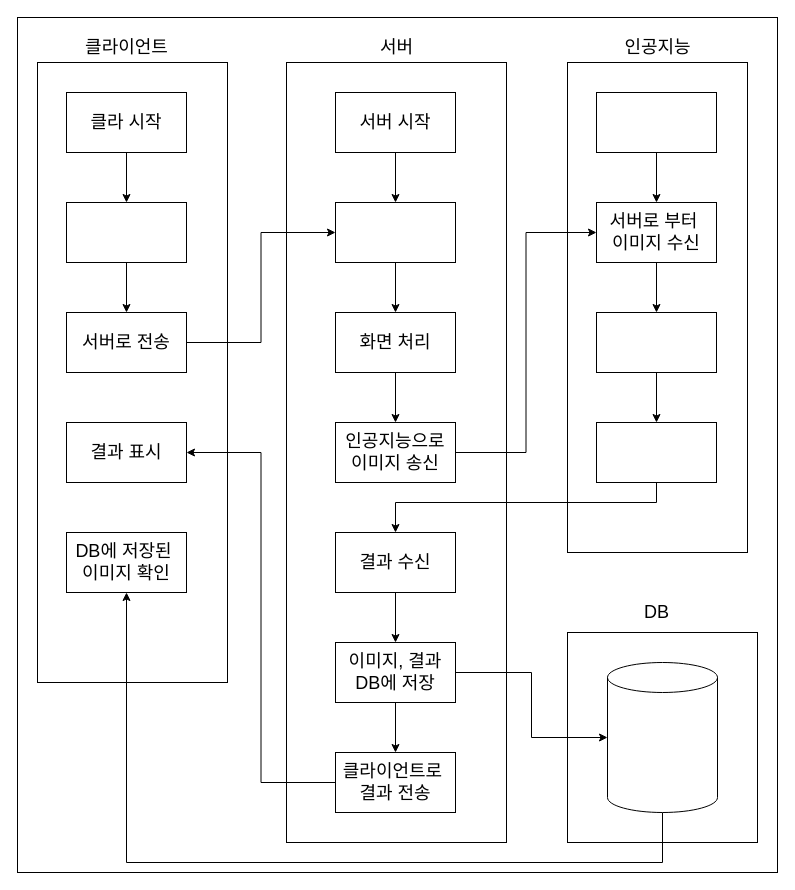
This 795x890 diagram has some shape labels left out. Each missing label, with the centre of its shape:
"결과 서버로 송신" goes at (x=656, y=452).
"이미지 수신" goes at (x=395, y=232).
"인공지능 시작" goes at (x=656, y=122).
"판별" goes at (x=656, y=342).
"화면 캡쳐/저장" goes at (x=126, y=232).
